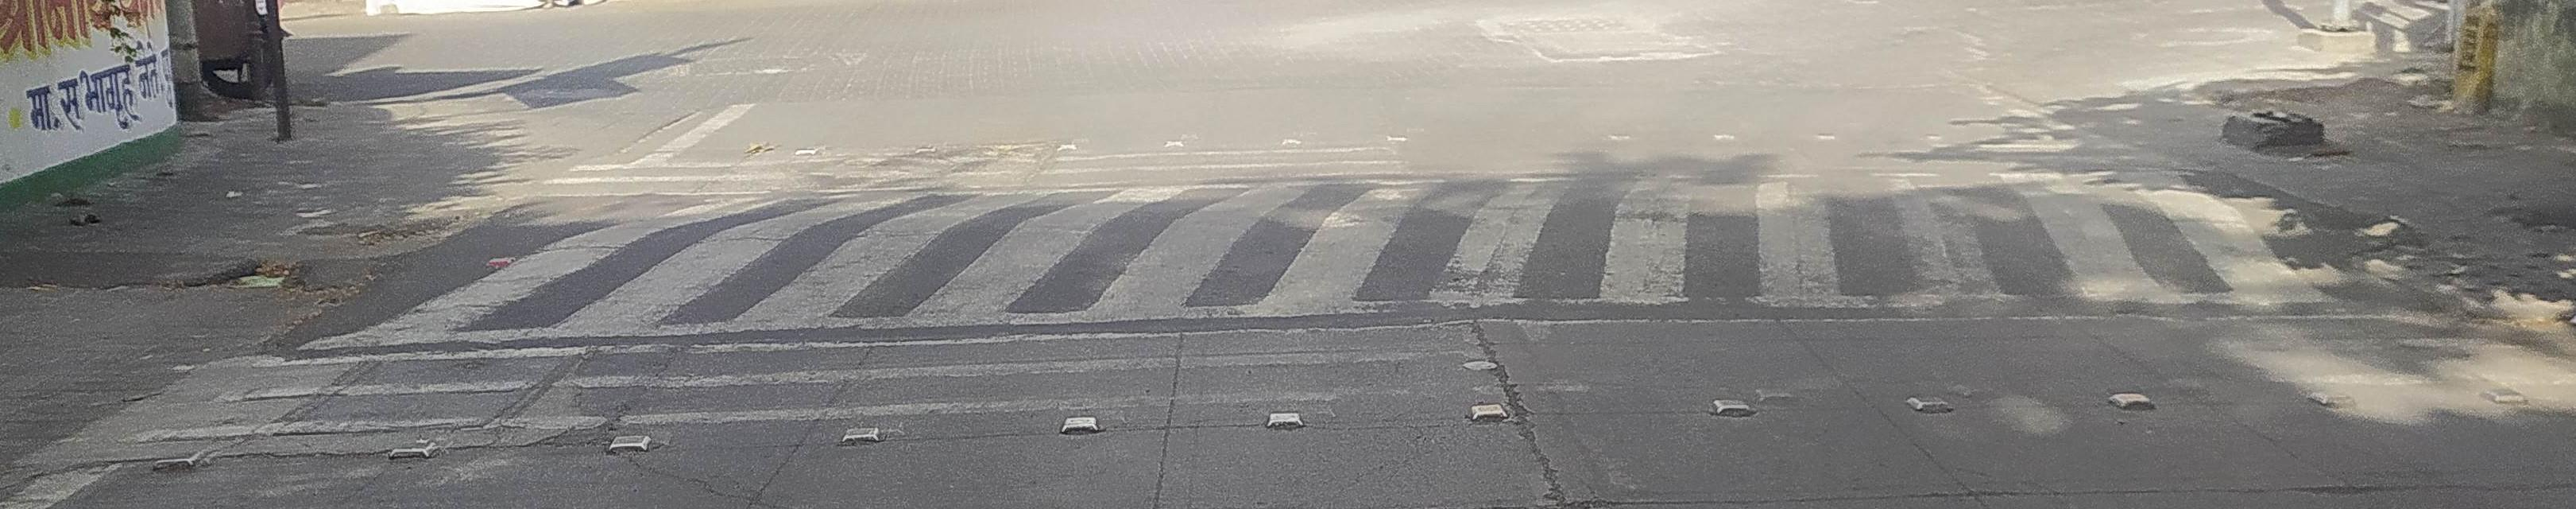speed-bump: (284, 152, 2497, 363)
